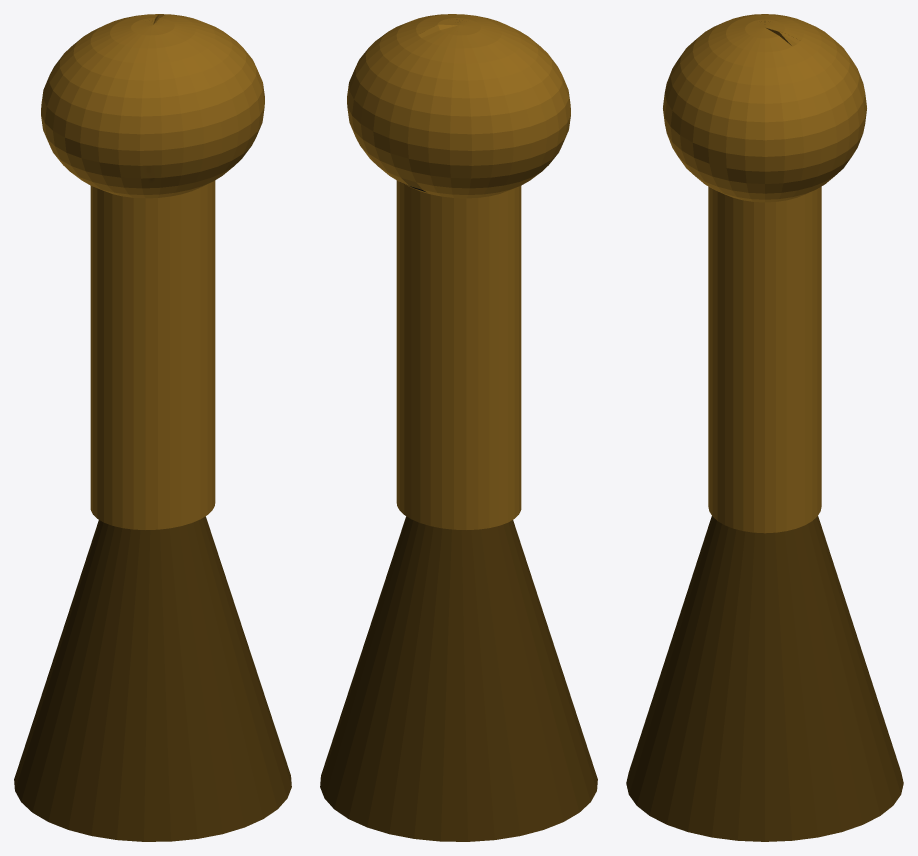
File: ados pousse.glb
3 renders of one model, left to right at view 1: azimuth 30°, elevation 25°; view 2: azimuth 150°, elevation 25°; view 3: azimuth 270°, elevation 25°, orthographic.
Visible parts, largest first — view 1: Cube; view 2: Cube; view 3: Cube.
Part boxes in pixels (x1,y1,x2,y2): Cube: [14, 14, 291, 841]; Cube: [320, 14, 597, 841]; Cube: [626, 14, 903, 841].
Size of the model in its own units: 2 by 6.03 by 2.
1 material, 1 textured.
